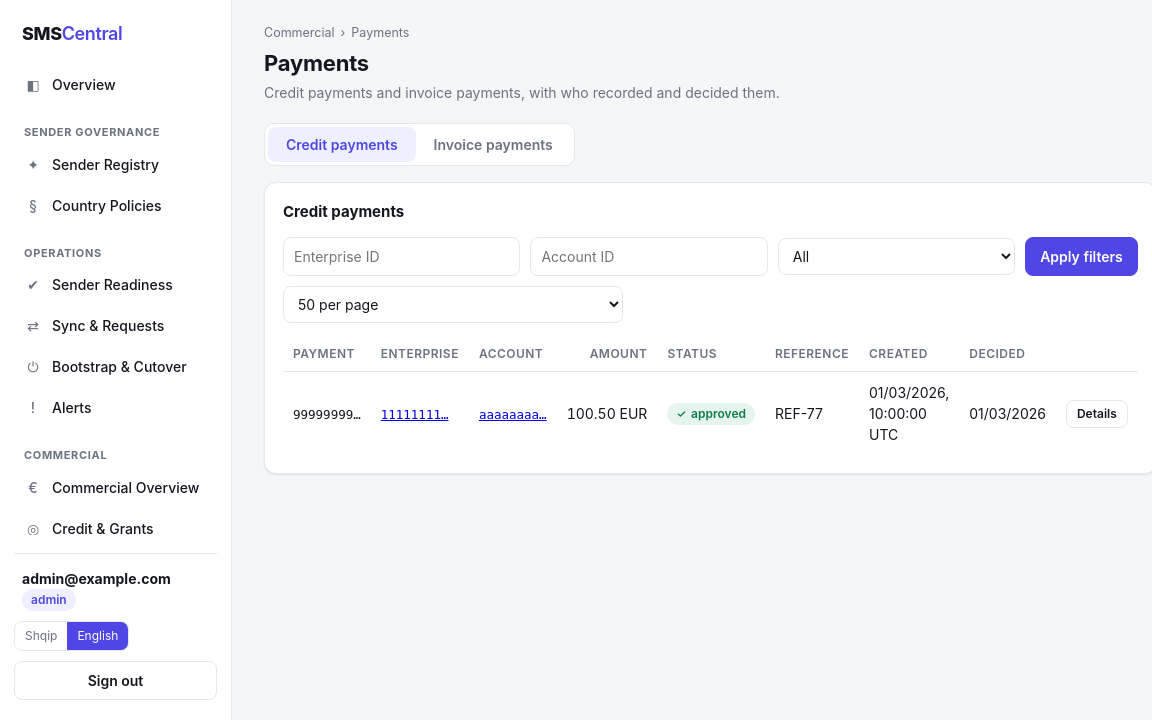
Test: payments › 11 payment detail shows maker, decision time and reference — no raw provider payload
Check: the navigation bar named "Main navigation" is shown, box [14, 65, 217, 535]
Click the button with aria-label "Details for payment": {"x": 1097, "y": 414} [1066, 400, 1128, 428]
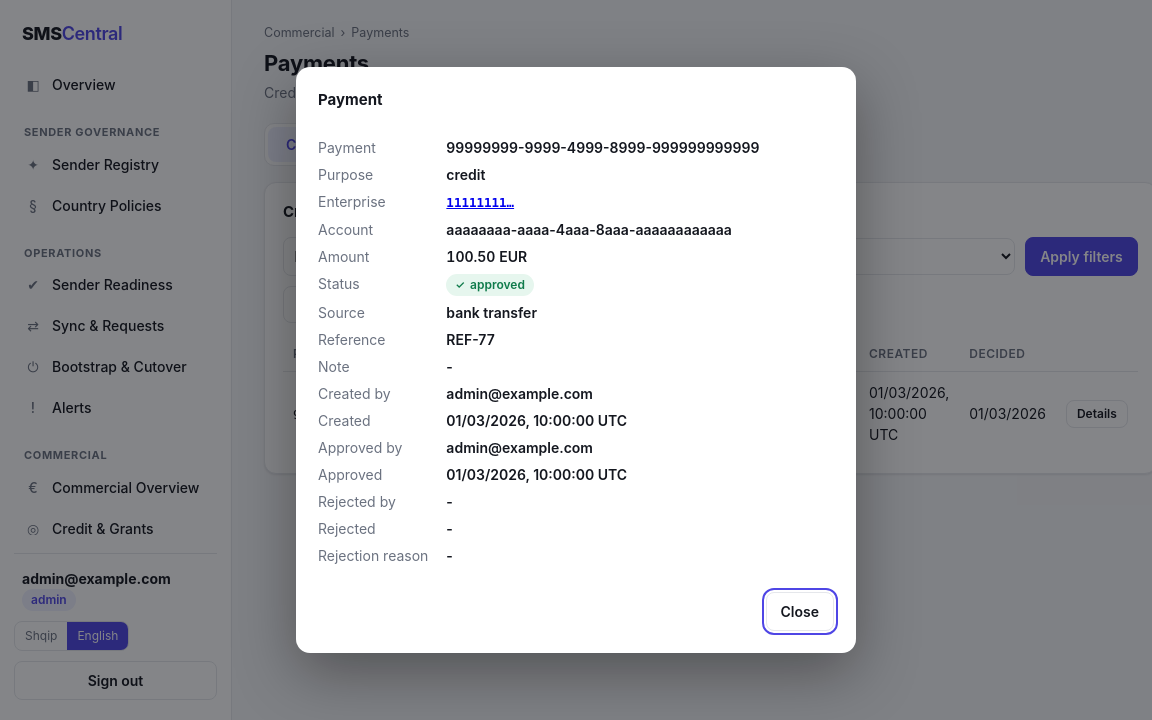
Check: the text "Created by" is shown, box [318, 385, 391, 402]
Check: the text "Approved by" is shown, box [318, 439, 402, 456]
Check: the text "Rejection reason" is shown, box [318, 545, 428, 566]
